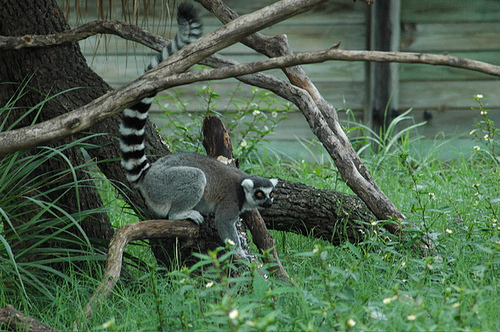cat: (116, 2, 278, 268)
